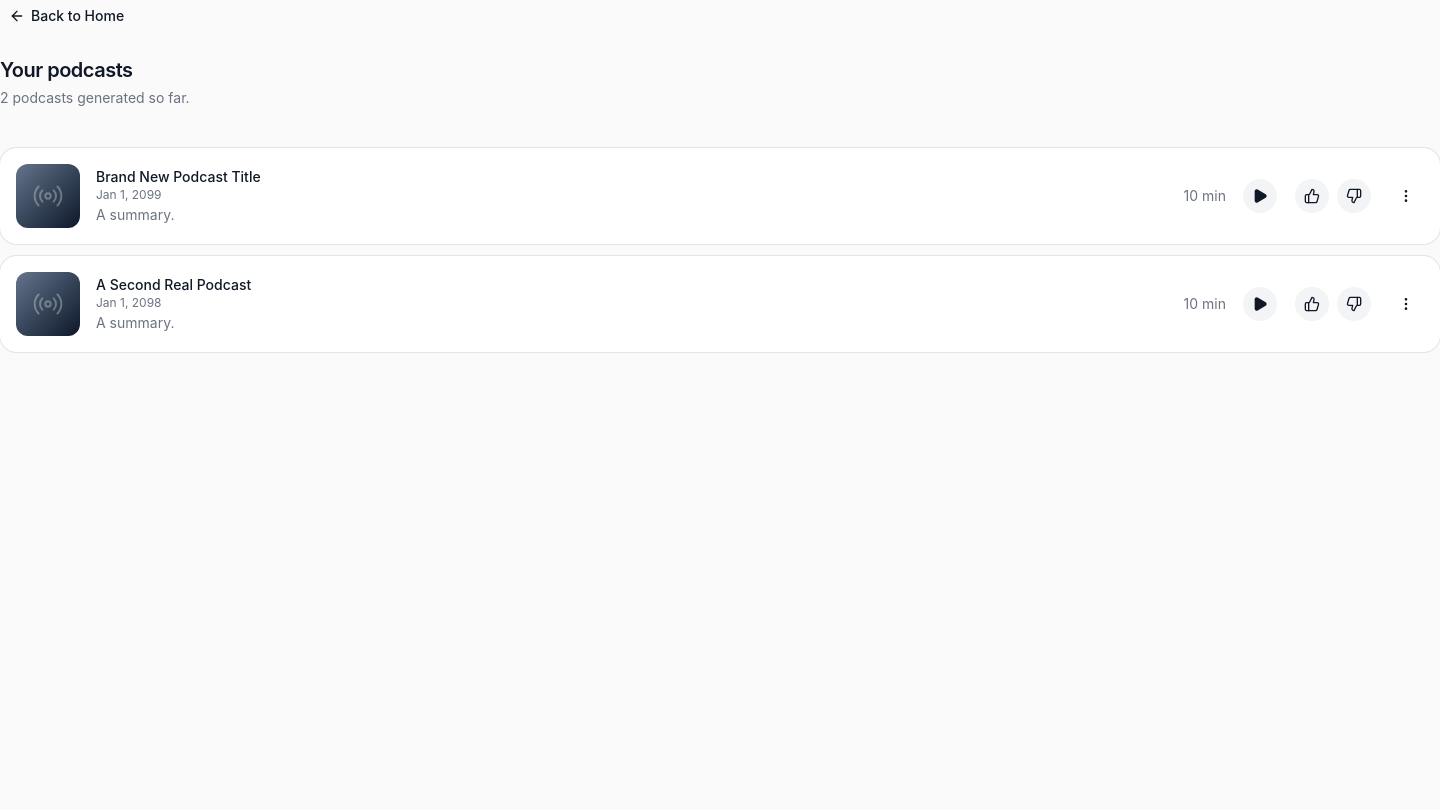
summary and sources › lets a row's overflow menu show its summary
The width and height of the screenshot is (1440, 810).
Expected: the text "Brand New Podcast Title" is shown, [96,168,261,185]
Click the button named "More options for A Second Real Podcast": (1406, 304) [1388,286,1424,322]
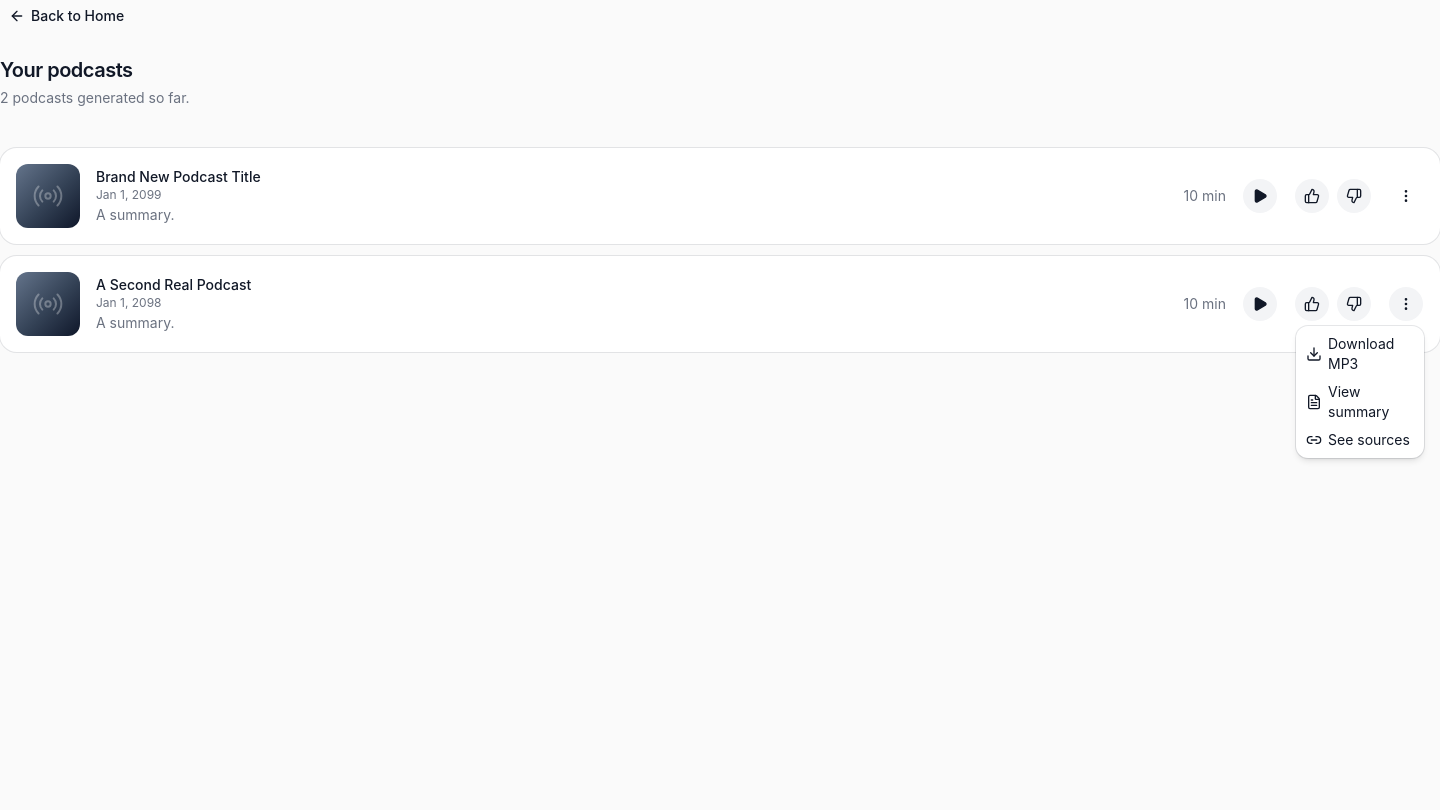
Click the menu item "View summary": (1348, 402) [1306,383,1389,420]
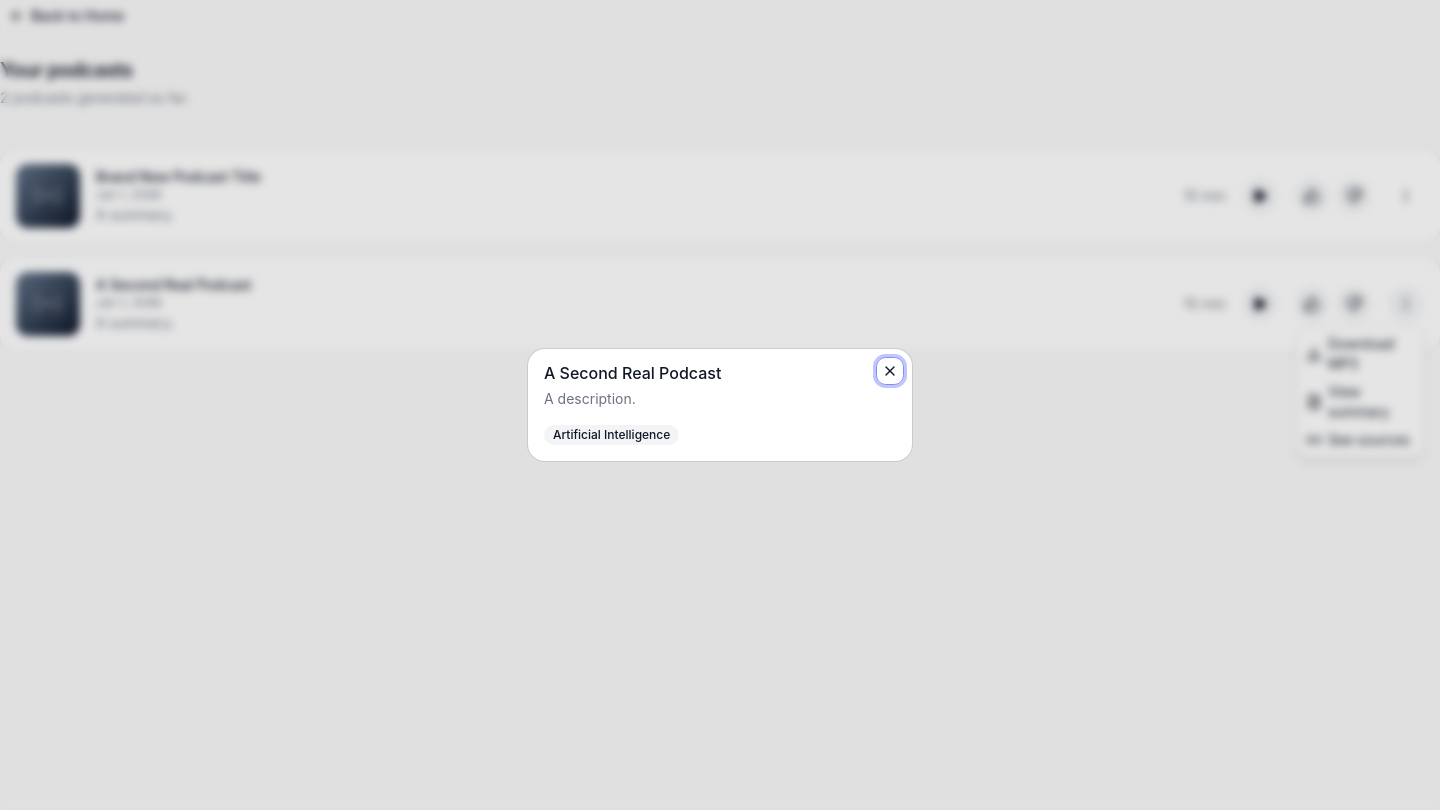
Expected: the text "A description." is shown, [544,390,636,407]
Expected: the text "Artificial Intelligence" is shown, [544,425,679,445]
